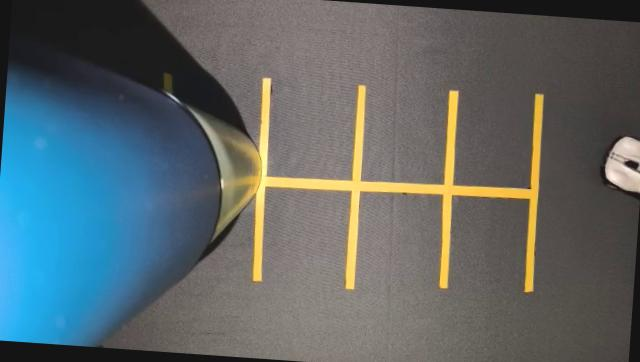toy_car: (583, 112, 640, 199)
